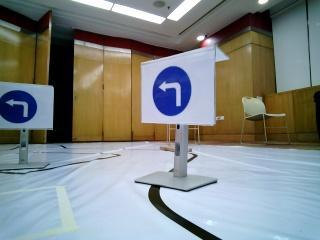left: (146, 68, 203, 115), (0, 89, 50, 132)
